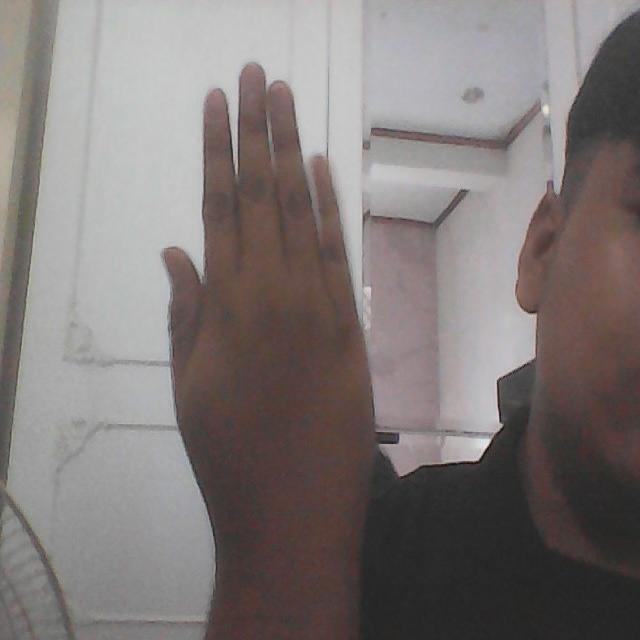hand: (143, 61, 380, 640)
